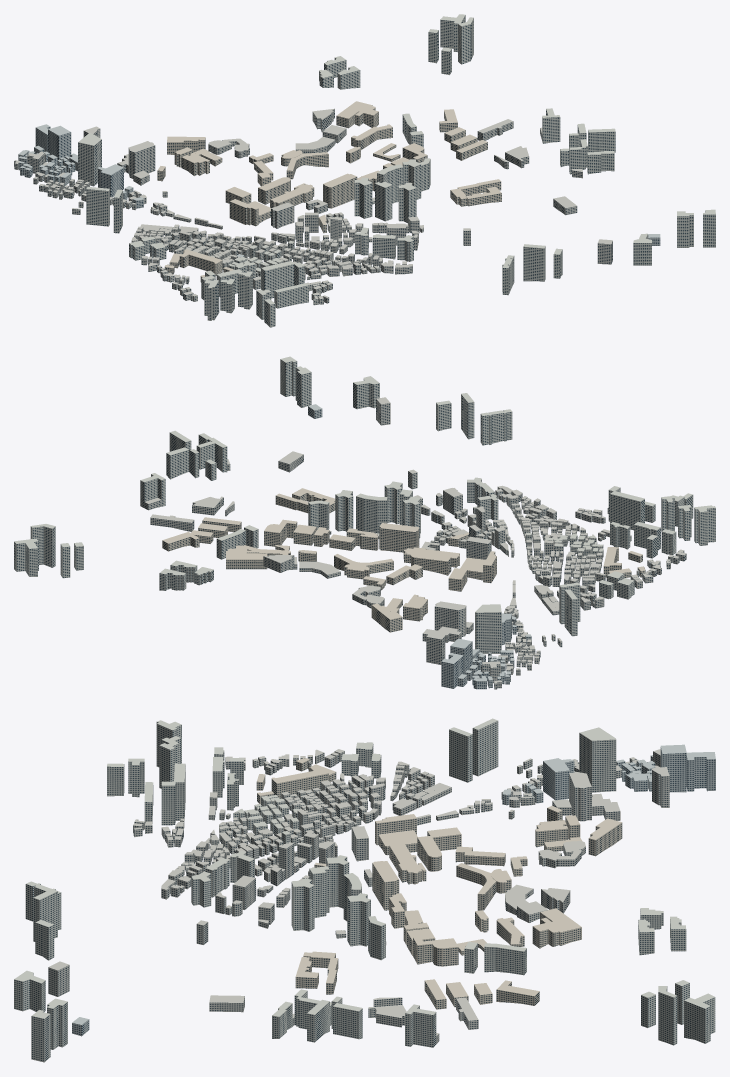
File: city_-7_-1.glb
The picture shows the model from 3 angles, top to bottom: view 1: azimuth 30°, elevation 25°; view 2: azimuth 150°, elevation 25°; view 3: azimuth 270°, elevation 25°; orthographic projection. The views are drawn at different scales.
Bounding box in the file's own units: 1036 × 106 × 1033.
4 materials, 4 textured.
